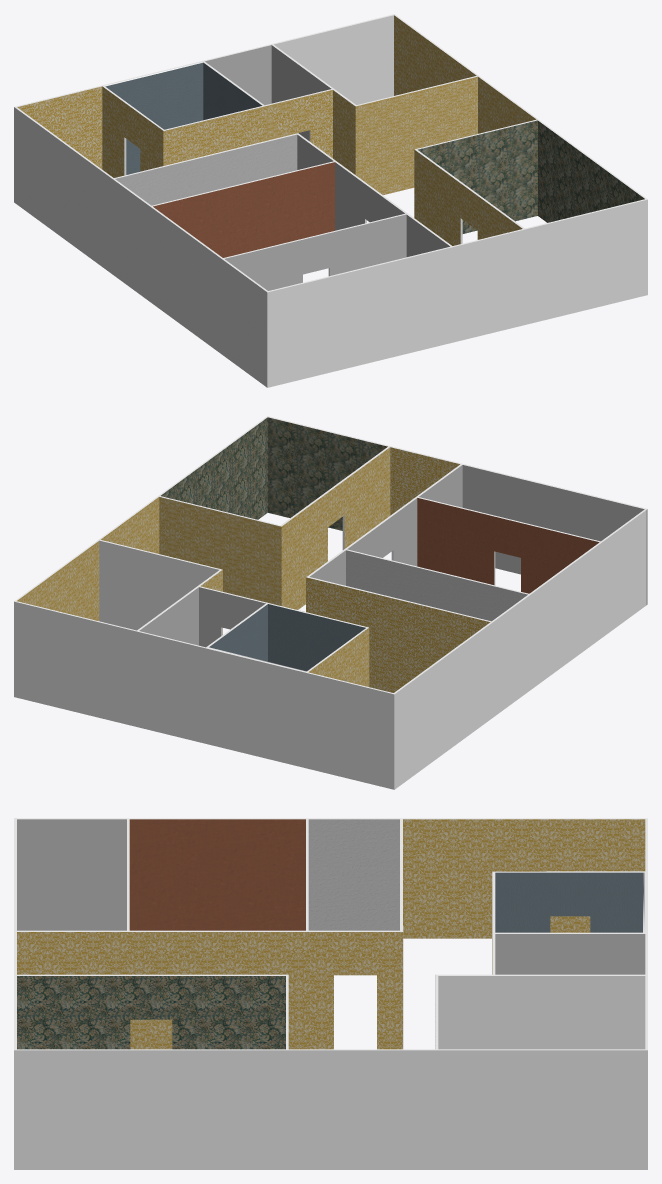
Rendered from parede2andar.fbx.
3 views of the same model, one above another, from view 1: azimuth 30°, elevation 25°; view 2: azimuth 150°, elevation 25°; view 3: azimuth 270°, elevation 25° (orthographic). The views are drawn at different scales.
Parts seen in each view (by area): view 1: parede_andar2; view 2: parede_andar2; view 3: parede_andar2.
Part boxes in pixels (x1,y1,x2,y2): parede_andar2: [14, 14, 647, 387]; parede_andar2: [14, 416, 647, 789]; parede_andar2: [14, 818, 647, 1169].
Bounding box in the file's own units: 16.55 × 3.97 × 19.09.
